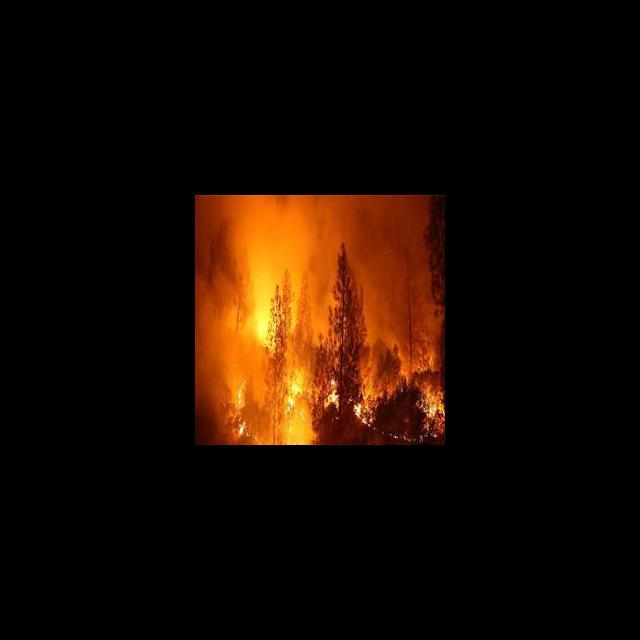Fire: (249, 283, 299, 344), (230, 383, 255, 438), (280, 371, 304, 418), (354, 399, 374, 427), (322, 378, 336, 403)
